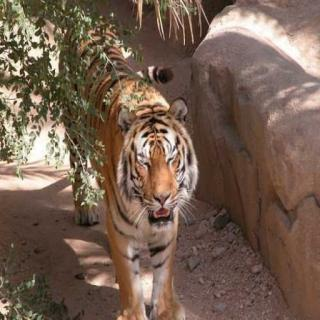Tiger: (49, 3, 222, 318)
